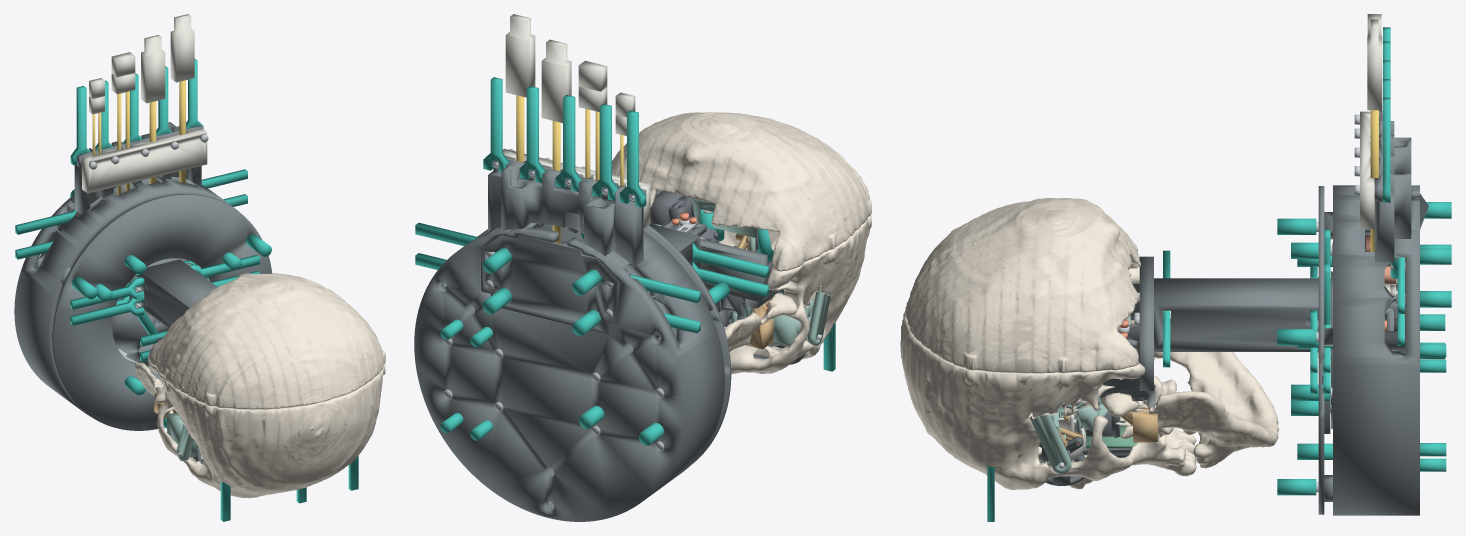
The picture shows the model from 3 angles, left to right: view 1: azimuth 30°, elevation 25°; view 2: azimuth 150°, elevation 25°; view 3: azimuth 270°, elevation 25°; orthographic projection. The views are drawn at different scales.
Visible parts, largest first — view 1: Part074, Part002, Part073, Part000, CableGate, Part010, CableSaddle, Part007, CameraUSB, ControlUSB, tool-mast-nuts-mastNut0, tool-rear-cover-bolts-cableNut0 (+12 smaller); view 2: Part000, Part074, CableSaddle, HubHolder, Part073, ControlUSB, Part011, Part002, CameraUSB, Jaw_30_moving_jaw, tool-rear-cover-bolts-cableNut1, tool-rear-cover-bolts-cableNut2 (+18 smaller); view 3: Part074, Part000, Part073, Part010, Jaw_30_moving_jaw, CableSaddle, Part011, Part002, CableGate, ControlUSB, Part027, Jaw_39_right_jaw_pivot_arm (+5 smaller).
Part boxes in pixels (x1=…): Part074: x1=148, y1=273, x2=385, y2=409; Part002: x1=51, y1=194, x2=272, y2=430; Part073: x1=148, y1=359, x2=385, y2=498; Part000: x1=14, y1=176, x2=238, y2=415; CableGate: x1=82, y1=128, x2=207, y2=193; Part010: x1=129, y1=259, x2=217, y2=328; CableSaddle: x1=74, y1=122, x2=203, y2=214; Part007: x1=112, y1=258, x2=207, y2=364; CameraUSB: x1=141, y1=35, x2=165, y2=103; ControlUSB: x1=170, y1=14, x2=194, y2=82; tool-mast-nuts-mastNut0: x1=70, y1=295, x2=144, y2=325; tool-rear-cover-bolts-cableNut0: x1=70, y1=86, x2=90, y2=165; Part000: x1=414, y1=223, x2=724, y2=521; Part074: x1=612, y1=112, x2=871, y2=271; CableSaddle: x1=488, y1=156, x2=646, y2=266; HubHolder: x1=481, y1=234, x2=618, y2=334; Part073: x1=719, y1=215, x2=871, y2=373; ControlUSB: x1=505, y1=14, x2=535, y2=97; Part011: x1=662, y1=217, x2=783, y2=308; Part002: x1=537, y1=224, x2=731, y2=463; CameraUSB: x1=541, y1=39, x2=571, y2=122; Jaw_30_moving_jaw: x1=724, y1=293, x2=797, y2=351; tool-rear-cover-bolts-cableNut1: x1=592, y1=103, x2=618, y2=200; tool-rear-cover-bolts-cableNut2: x1=555, y1=95, x2=581, y2=191; Part074: x1=905, y1=198, x2=1140, y2=373; Part000: x1=1324, y1=185, x2=1419, y2=515; Part073: x1=900, y1=266, x2=1196, y2=489; Part010: x1=1154, y1=277, x2=1330, y2=357; Jaw_30_moving_jaw: x1=1104, y1=314, x2=1279, y2=468; CableSaddle: x1=1374, y1=110, x2=1411, y2=262; Part011: x1=1062, y1=256, x2=1153, y2=407; Part002: x1=1318, y1=186, x2=1330, y2=514; CableGate: x1=1360, y1=111, x2=1374, y2=228; ControlUSB: x1=1367, y1=20, x2=1382, y2=110; Part027: x1=1030, y1=414, x2=1071, y2=473; Jaw_39_right_jaw_pivot_arm: x1=1102, y1=397, x2=1158, y2=442.
Size of the model in its own units: 194 by 312 by 311.
